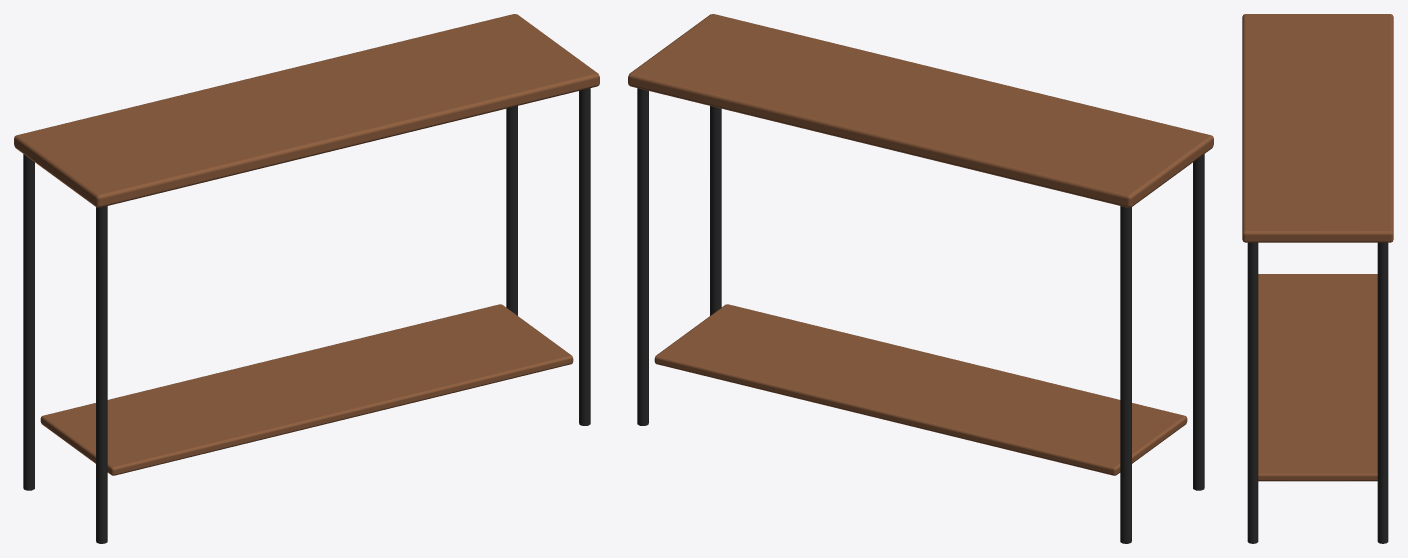
3 renders of one model, left to right at view 1: azimuth 30°, elevation 25°; view 2: azimuth 150°, elevation 25°; view 3: azimuth 270°, elevation 25°, orthographic. The views are drawn at different scales.
Visible parts, largest first — view 1: top, shelf, leg-3, leg-4, leg-1, leg-2; view 2: top, shelf, leg-1, leg-2, leg-3, leg-4; view 3: top, shelf, leg-2, leg-4.
Boxes of the visible parts, box(x1,y1,x2,y2) form: top: box(14, 14, 599, 207); shelf: box(40, 304, 573, 475); leg-3: box(96, 206, 107, 543); leg-4: box(579, 88, 590, 425); leg-1: box(23, 154, 34, 490); leg-2: box(506, 106, 517, 315); top: box(628, 14, 1213, 207); shelf: box(654, 304, 1187, 475); leg-1: box(1120, 206, 1131, 543); leg-2: box(637, 88, 648, 425); leg-3: box(1193, 154, 1204, 490); leg-4: box(710, 106, 721, 315); top: box(1242, 14, 1393, 242); shelf: box(1258, 274, 1377, 481); leg-2: box(1377, 242, 1388, 543); leg-4: box(1247, 242, 1258, 543).
Size of the model in its own units: 1.2 by 0.8 by 0.35.
